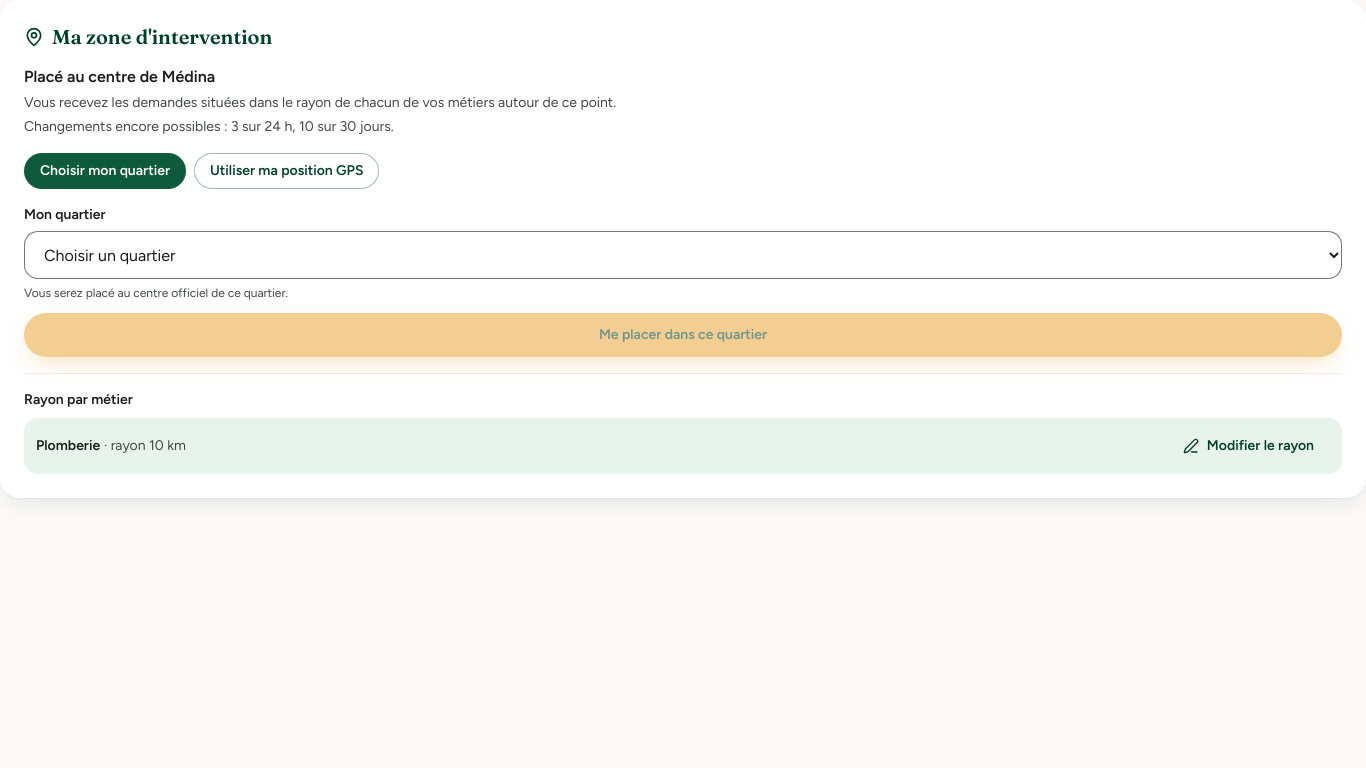
Test: ArtisanZoneSection › affiche le refus du serveur (limite atteinte) et dit que rien n’a changé
Select "Yoff" in the dropdown labelled "Mon quartier": coordinates (683, 255) [24,231,1342,279]
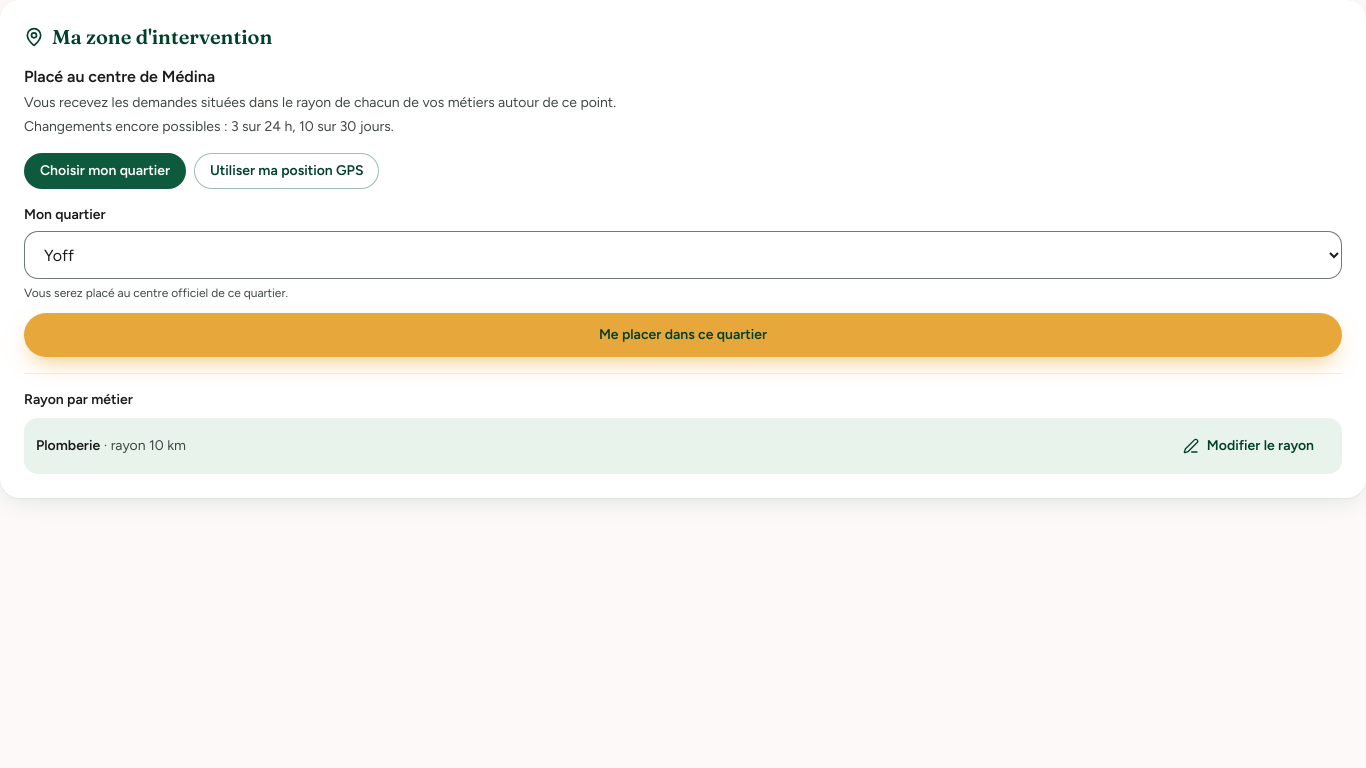
Click the button "Me placer dans ce quartier": coordinates (683, 335) [24,313,1342,357]
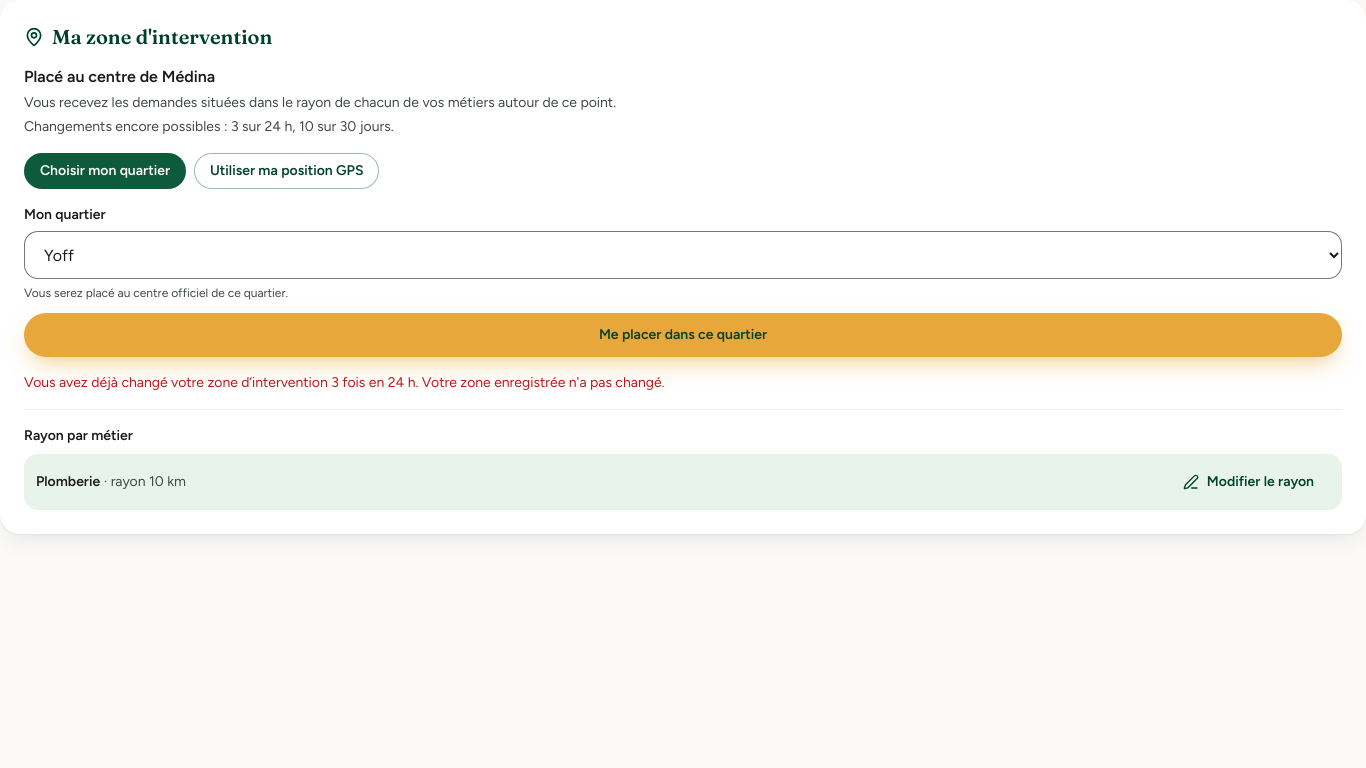
Result: the 2nd message shows "3 fois en 24 h" at [24,374,664,391]
Result: the 2nd message shows "Votre zone enregistrée n'a pas changé" at [24,374,664,391]
